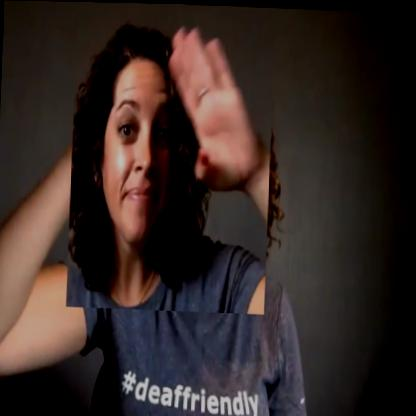Hello: (67, 2, 275, 313)
